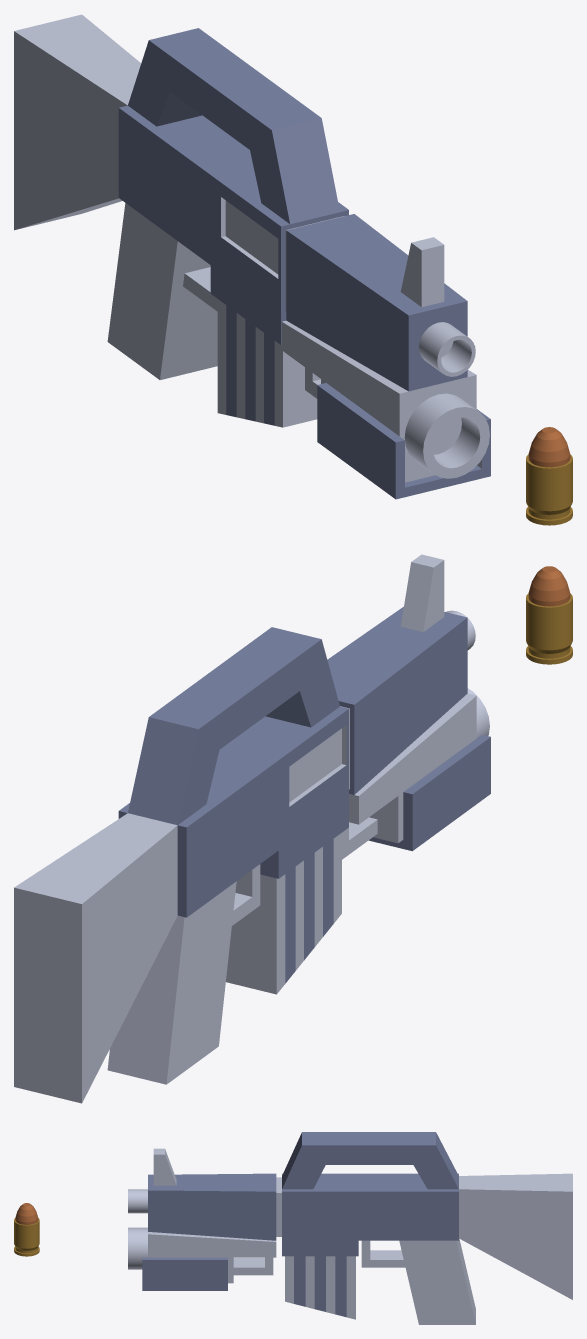
The model's file is machinegun.glb.
3 renders of one model, top to bottom at view 1: azimuth 30°, elevation 25°; view 2: azimuth 150°, elevation 25°; view 3: azimuth 270°, elevation 25°, orthographic. The views are drawn at different scales.
Visible parts, largest first — view 1: machinegun, ammoPistol; view 2: machinegun, ammoPistol; view 3: machinegun, ammoPistol.
Boxes of the visible parts, x1,y1,x2,y2 form: machinegun: [14, 14, 490, 499]; ammoPistol: [526, 427, 572, 525]; machinegun: [14, 554, 490, 1103]; ammoPistol: [526, 566, 572, 664]; machinegun: [128, 1132, 572, 1324]; ammoPistol: [14, 1203, 39, 1256].
Bounding box in the file's own units: 0.126 × 0.414 × 1.18.
